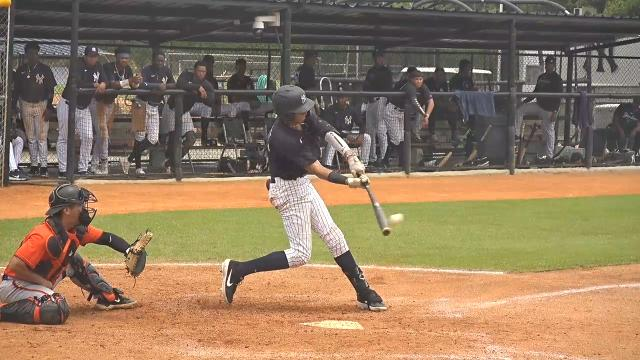ball: (391, 210, 405, 226)
bat: (364, 182, 392, 239)
